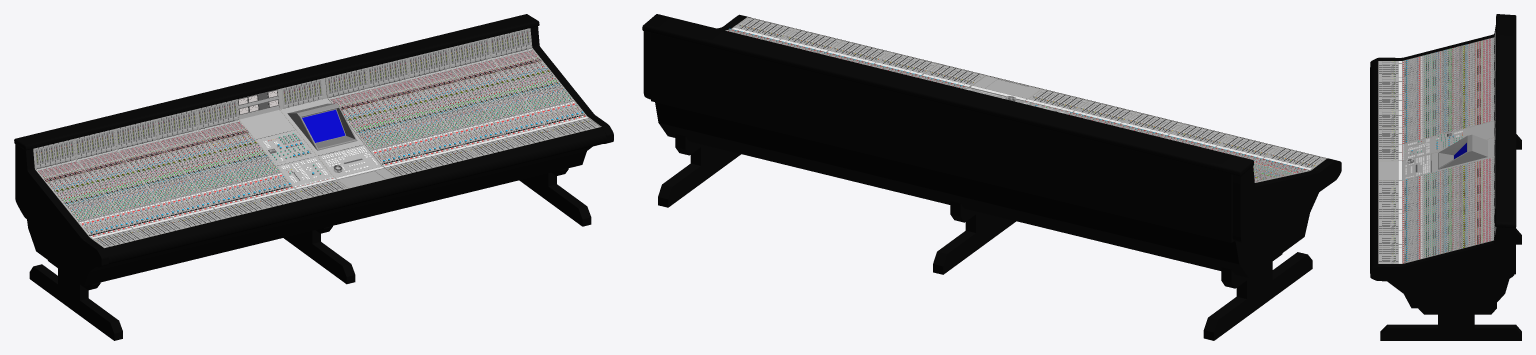
File: soundDesk.fbx
3 renders of one model, left to right at view 1: azimuth 30°, elevation 25°; view 2: azimuth 150°, elevation 25°; view 3: azimuth 270°, elevation 25°, orthographic. The views are drawn at different scales.
Parts seen in each view (by area): view 1: s.011, screen; view 2: s.011; view 3: s.011.
Part boxes in pixels (x1,y1,x2,y2): s.011: [14, 14, 613, 340]; screen: [302, 109, 345, 142]; s.011: [642, 14, 1341, 340]; s.011: [1370, 14, 1521, 340].
Size of the model in its own units: 503 by 139 by 154.
